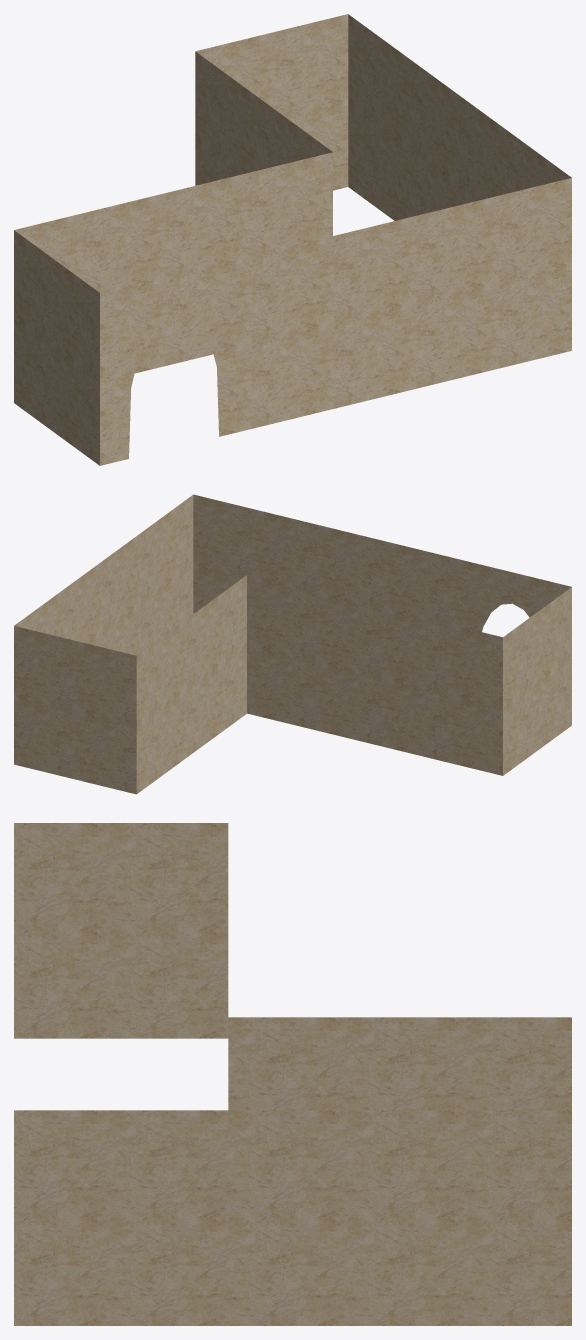
The model's file is thm_tato_imprv_building_s03_r1_foyer_mesh_l0.fbx.
The picture shows the model from 3 angles, top to bottom: view 1: azimuth 30°, elevation 25°; view 2: azimuth 150°, elevation 25°; view 3: azimuth 270°, elevation 25°; orthographic projection. The views are drawn at different scales.
Parts seen in each view (by area): view 1: mesh_node; view 2: mesh_node; view 3: mesh_node.
Boxes of the visible parts, x1,y1,x2,y2 form: mesh_node: [14, 14, 571, 465]; mesh_node: [14, 494, 571, 794]; mesh_node: [14, 823, 571, 1325].
Bounding box in the file's own units: 11.42 × 4 × 9.38.
